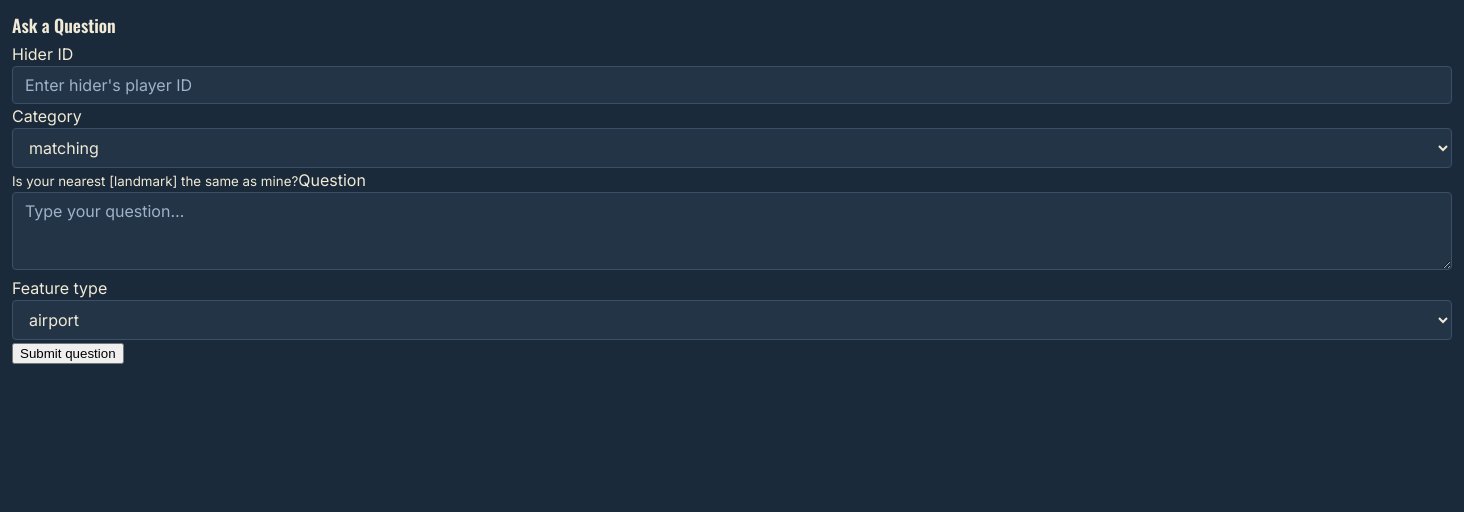
Test: QuestionPanel › adds submitted question to the local list on success
This screenshot has width=1464, height=512.
Type "p2" into the field labelled "Hider ID". click: (732, 85)
box: [12,66,1452,104]
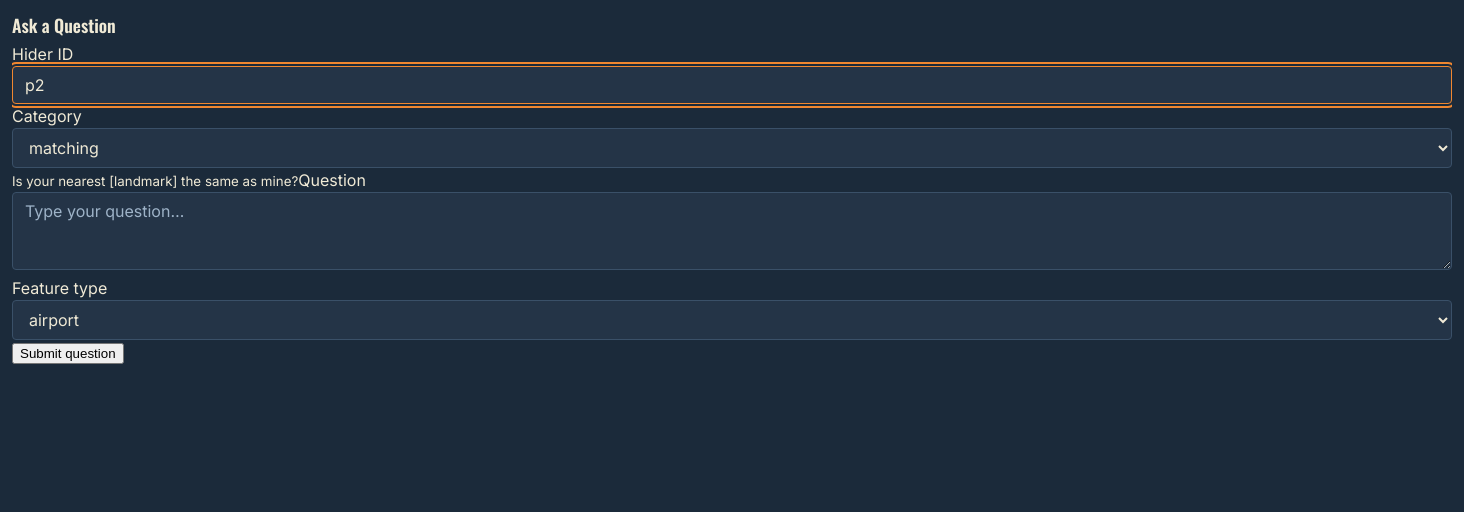
Type "Are you near a park?" into the text box labelled "Question". click: (732, 231)
box: [12,192,1452,270]
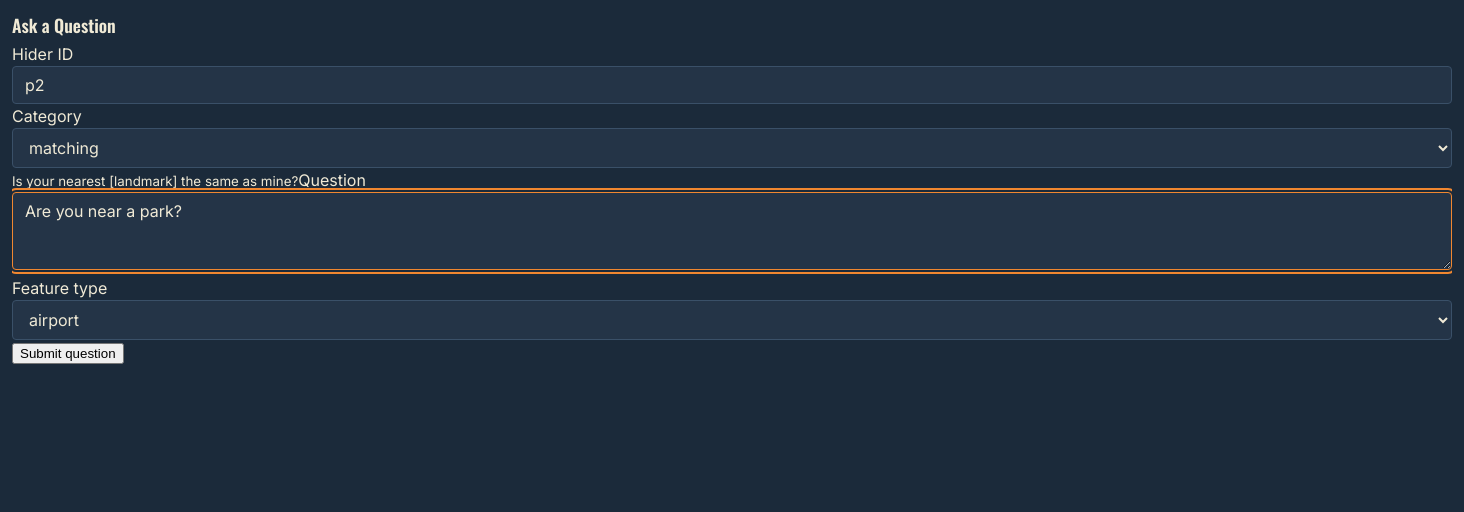
Click the button "Submit question". click: (68, 354)
box: [12,343,124,364]
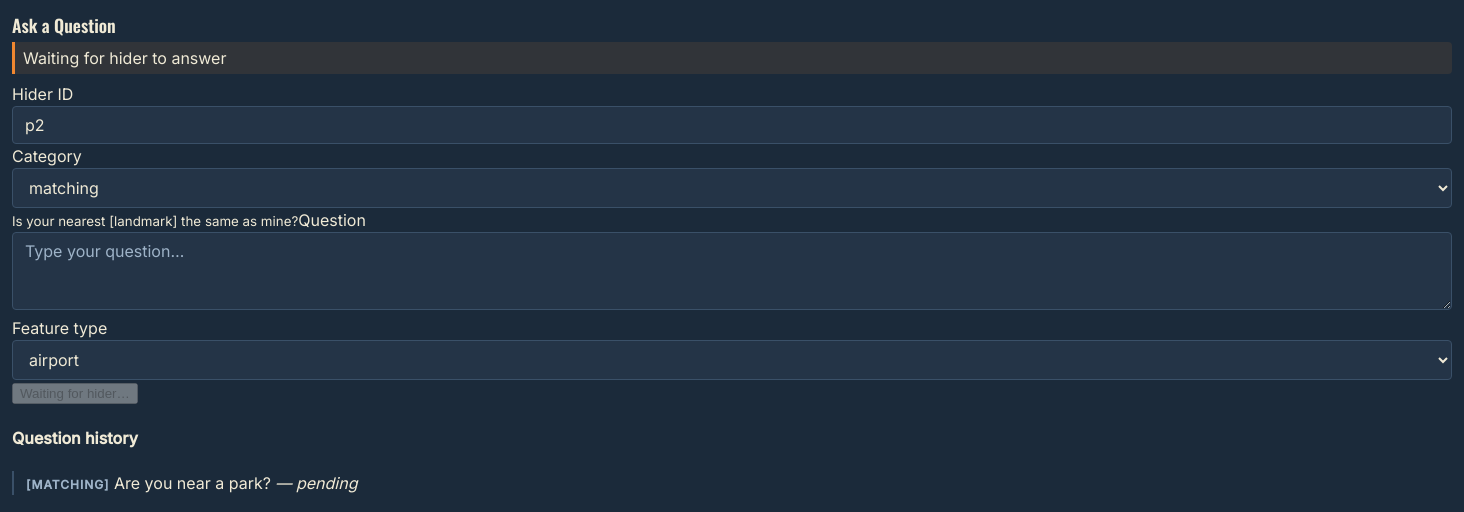
Now the list item "[matching] Are you near a park? — pending" is shown, box [12,471,1452,495]
